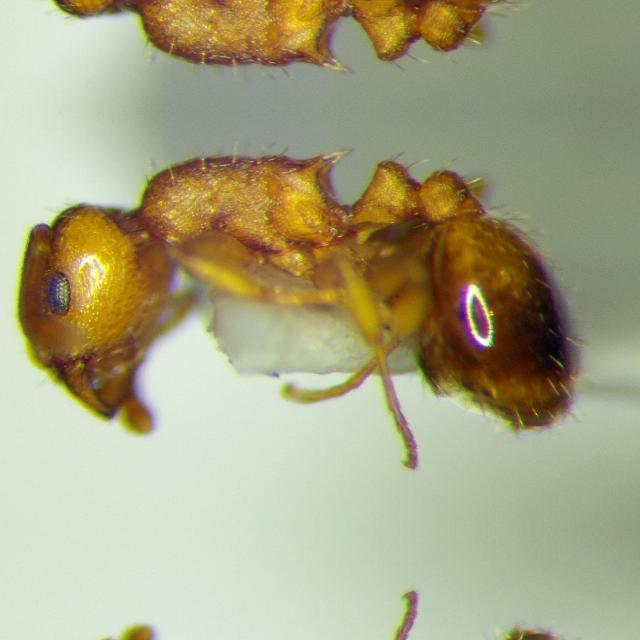Temnothorax: (0, 110, 630, 474), (0, 0, 630, 110)
